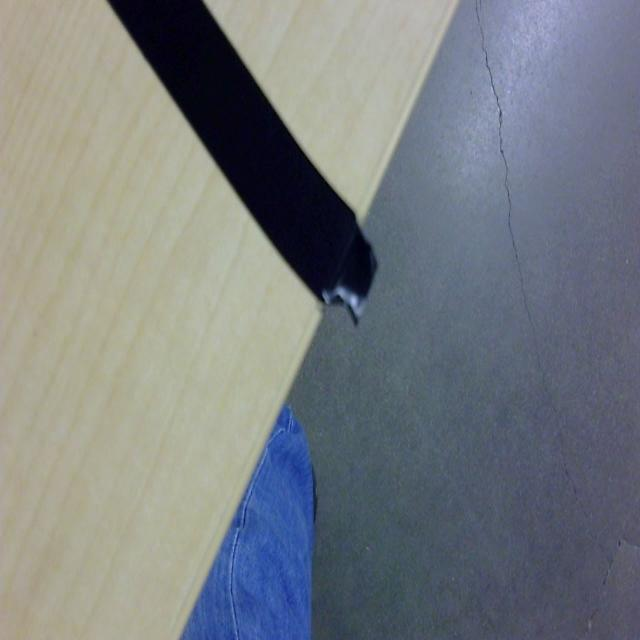tape: (68, 0, 414, 363)
